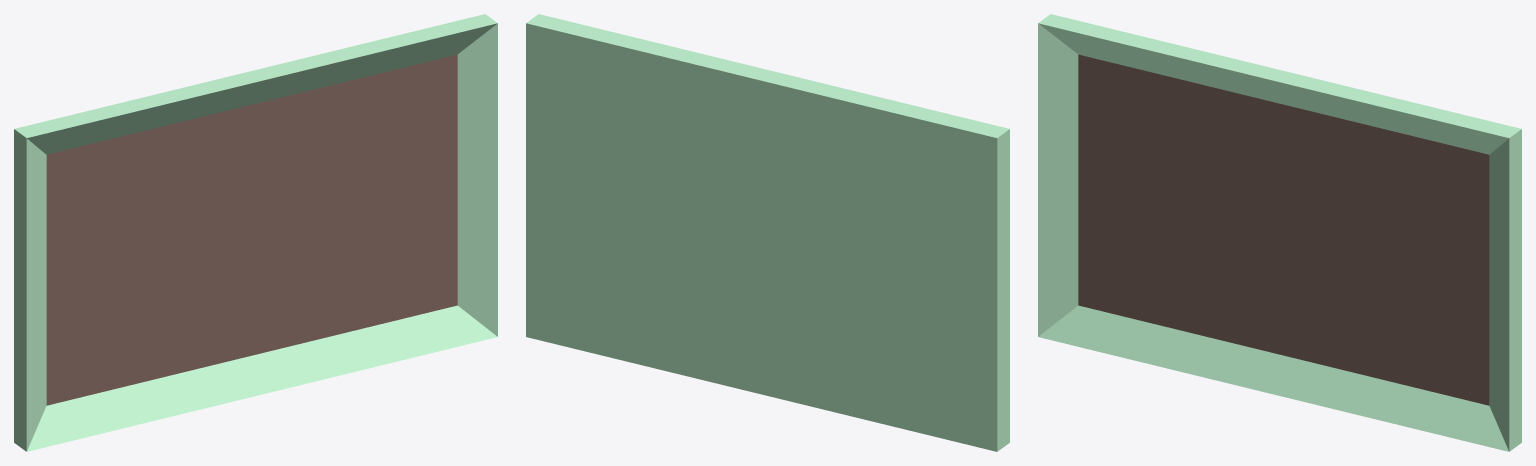
The model's file is pictureKobe.glb.
The picture shows the model from 3 angles, left to right: view 1: azimuth 30°, elevation 25°; view 2: azimuth 150°, elevation 25°; view 3: azimuth 330°, elevation 25°; orthographic projection.
Parts seen in each view (by area): view 1: pictureKobe; view 2: pictureKobe; view 3: pictureKobe.
Part boxes in pixels (left/top/right/bottom): pictureKobe: left=14, top=14, right=497, bottom=451; pictureKobe: left=526, top=14, right=1009, bottom=451; pictureKobe: left=1038, top=14, right=1521, bottom=451.
Bounding box in the file's own units: 0.3793 × 0.2414 × 0.0177.
